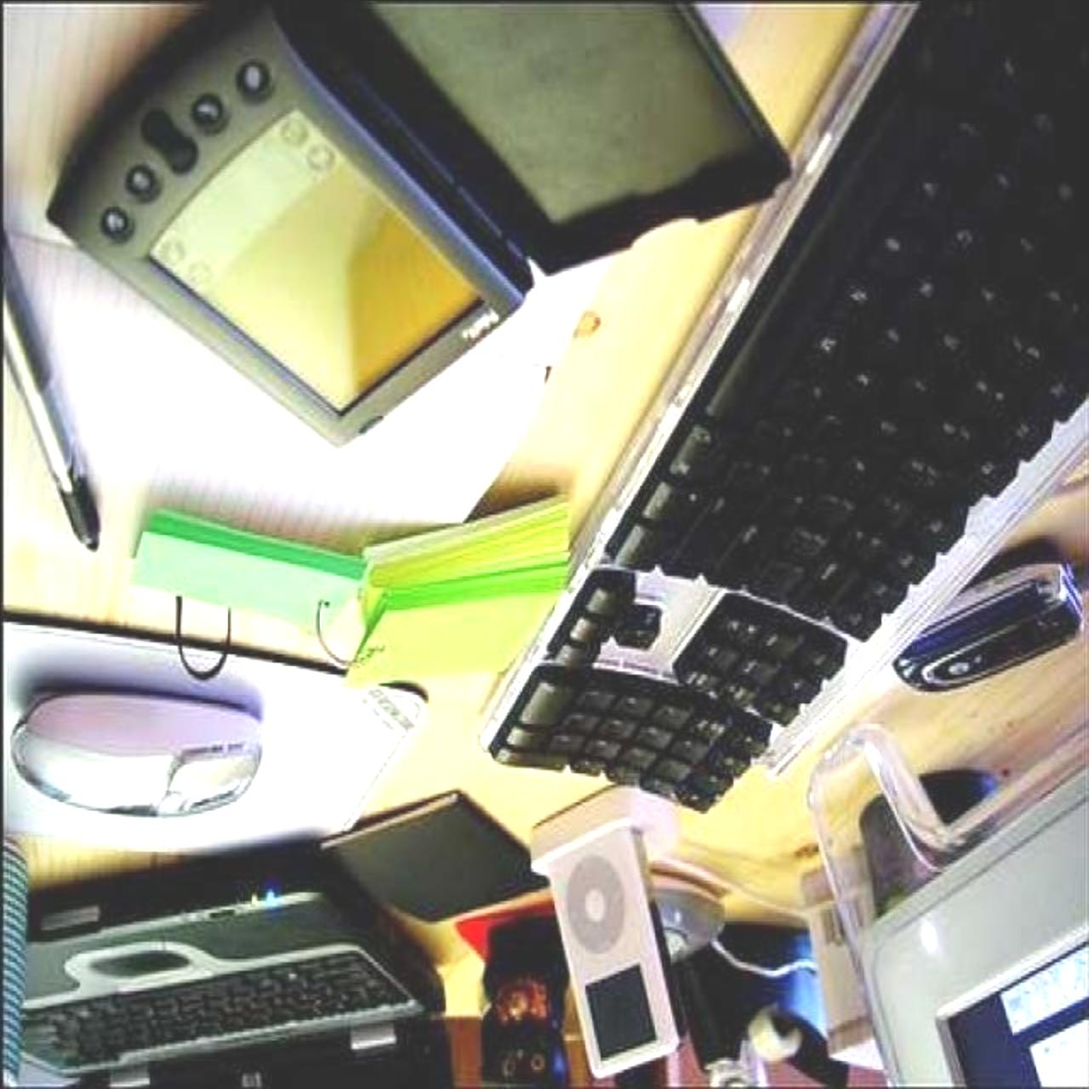laptop: (5, 853, 451, 1086)
